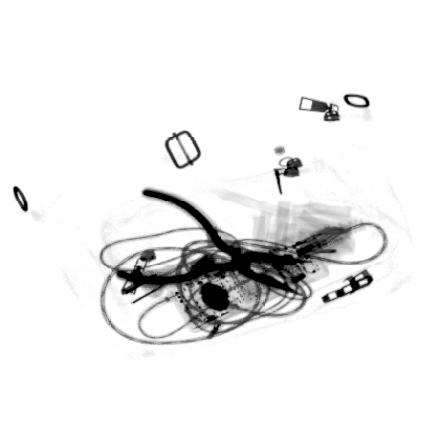Pliers: (114, 186, 307, 295)
